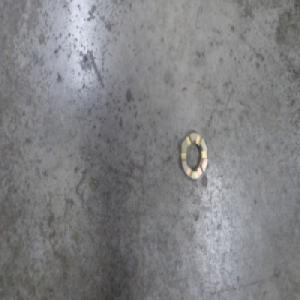Nut: (179, 128, 208, 182)
